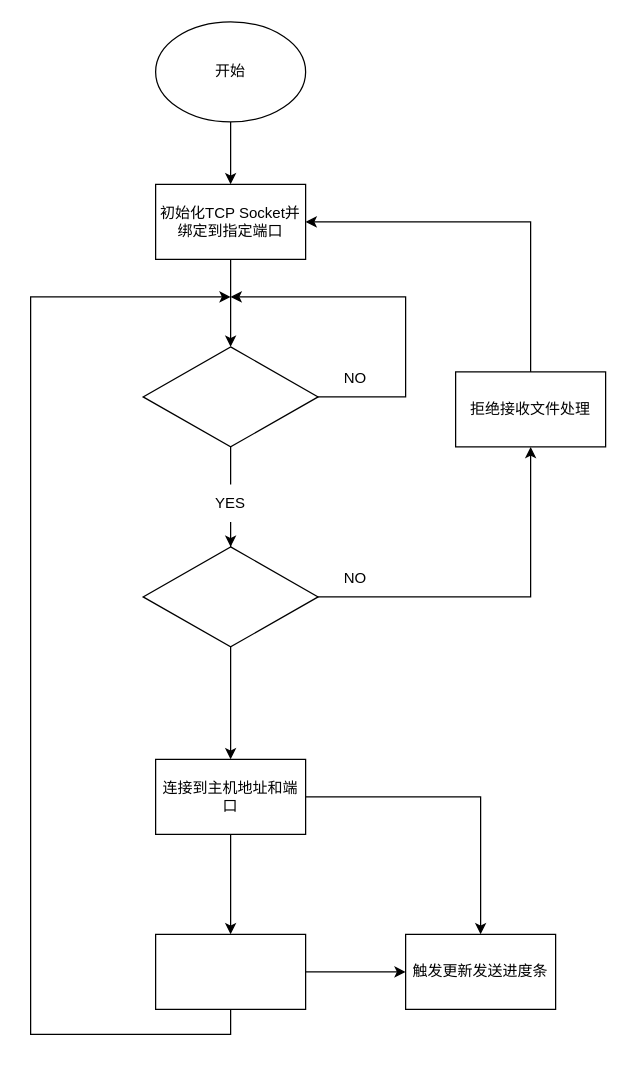
Image size: 628x1066. Some labels were removed from this diagram. The shapes that lost their labels are listed below. From the top down, each one's centre as x and y in pixels, then its label:
(230,396): 有新数据输入？
(230,596): 是否允许接收文件？
(230,971): 读取文件头信息和接收文件
